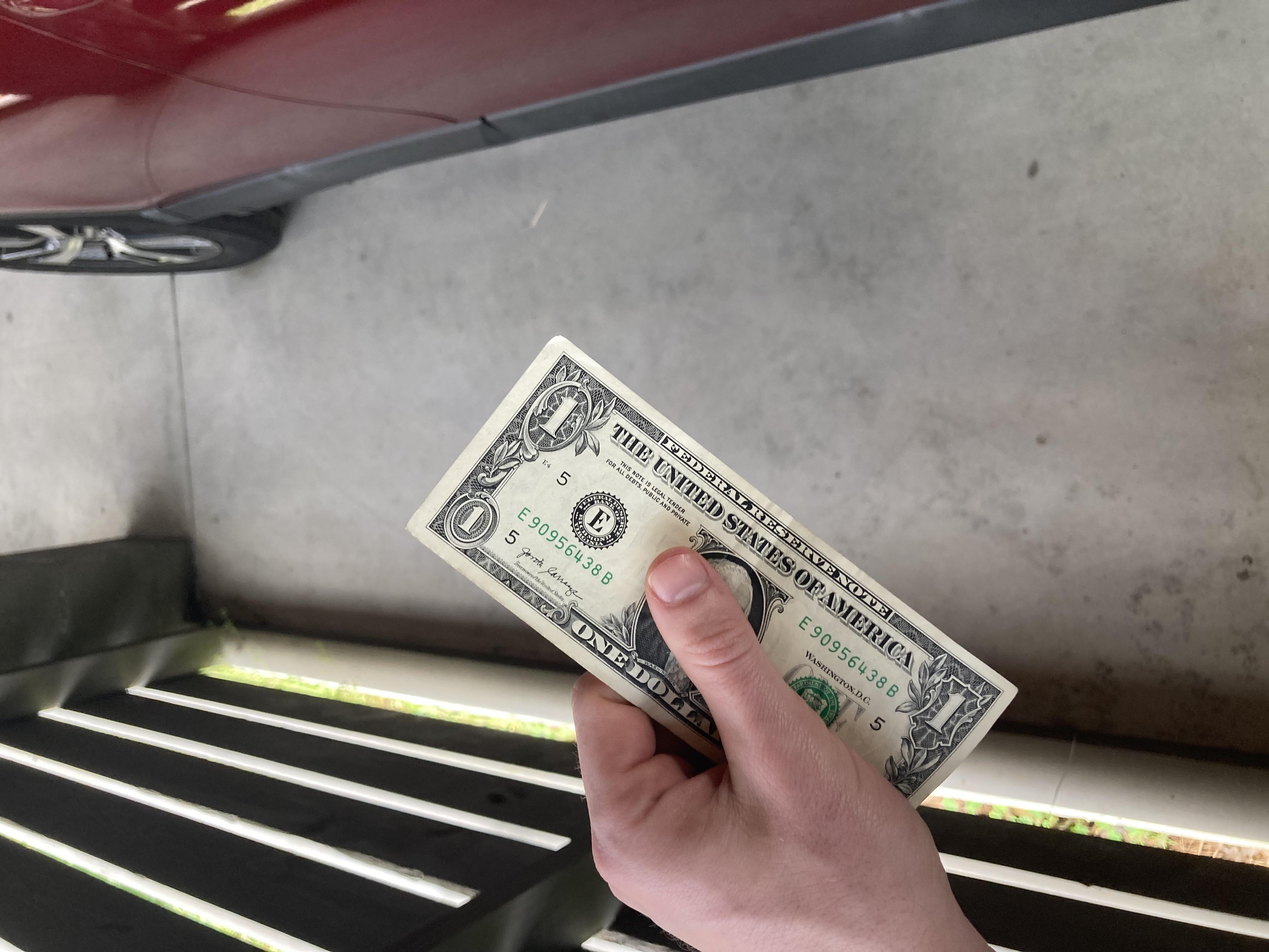one-front: (115, 302, 828, 766)
